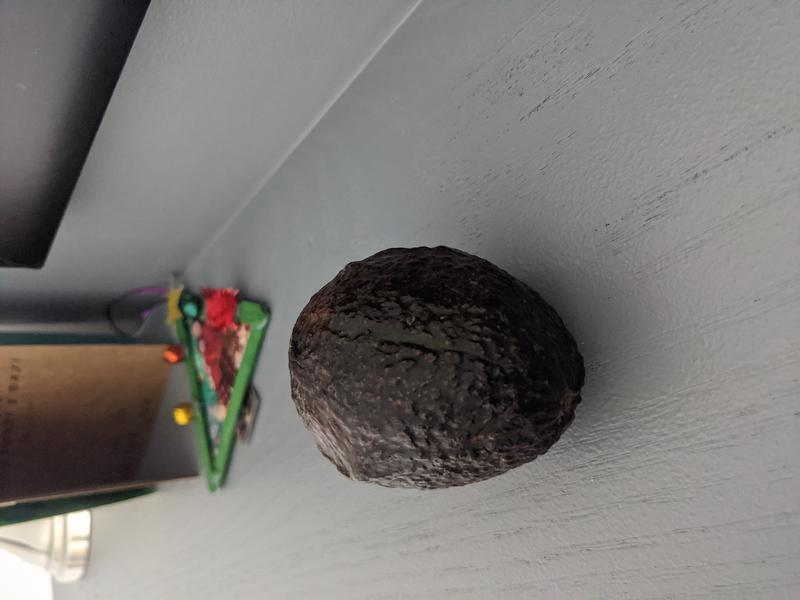avocado: (290, 246, 588, 489)
